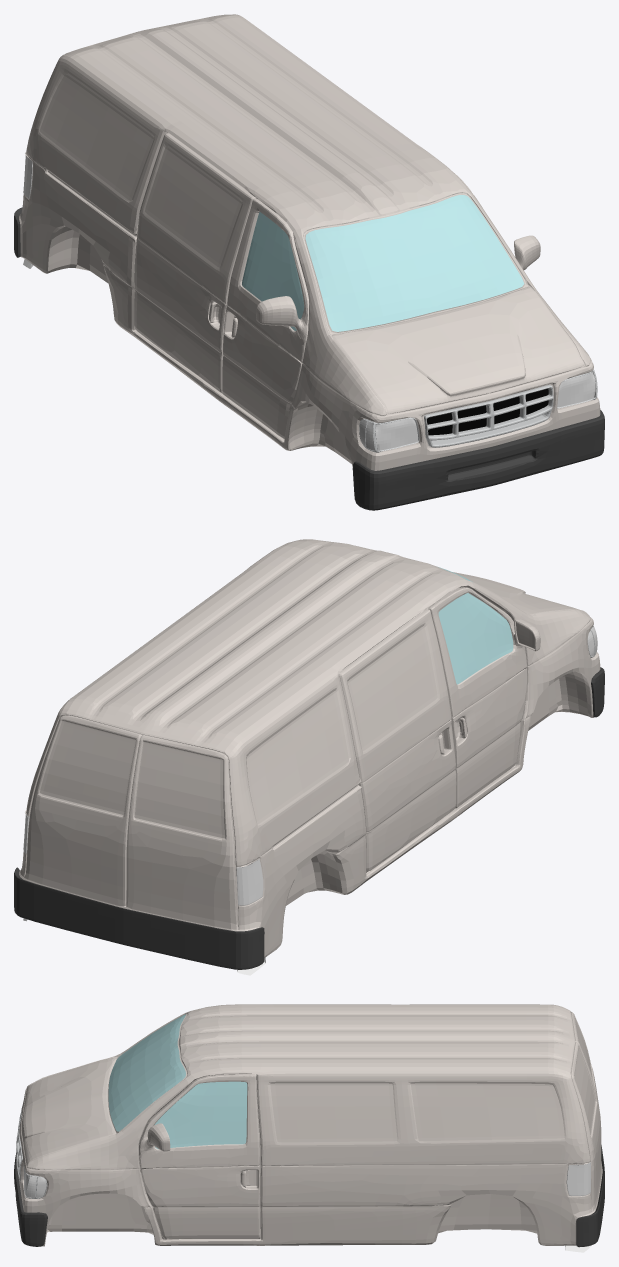
The model's file is camioneta-custom.fbx.
3 renders of one model, top to bottom at view 1: azimuth 30°, elevation 25°; view 2: azimuth 150°, elevation 25°; view 3: azimuth 270°, elevation 25°, orthographic. The views are drawn at different scales.
Parts seen in each view (by area): view 1: Camioneta.001, Camioneta.008, Camioneta.012, Camioneta.011, Camioneta.000, Camioneta.007; view 2: Camioneta.001, Camioneta.012, Camioneta.008, Camioneta.009; view 3: Camioneta.001, Camioneta.008, Camioneta.012, Camioneta.009.
Boxes of the visible parts, x1,y1,x2,y2 form: Camioneta.001: (19,14,600,470); Camioneta.008: (242,195,524,331); Camioneta.012: (14,207,604,510); Camioneta.011: (424,385,553,447); Camioneta.000: (375,372,596,450); Camioneta.007: (426,388,548,435); Camioneta.001: (19,539,600,957); Camioneta.012: (14,667,604,969); Camioneta.008: (438,567,513,684); Camioneta.009: (23,811,263,905); Camioneta.001: (18,1004,602,1246); Camioneta.008: (108,1014,247,1149); Camioneta.012: (14,1145,604,1247); Camioneta.009: (566,1162,590,1195).
Size of the model in its own units: 435 by 327 by 997.
